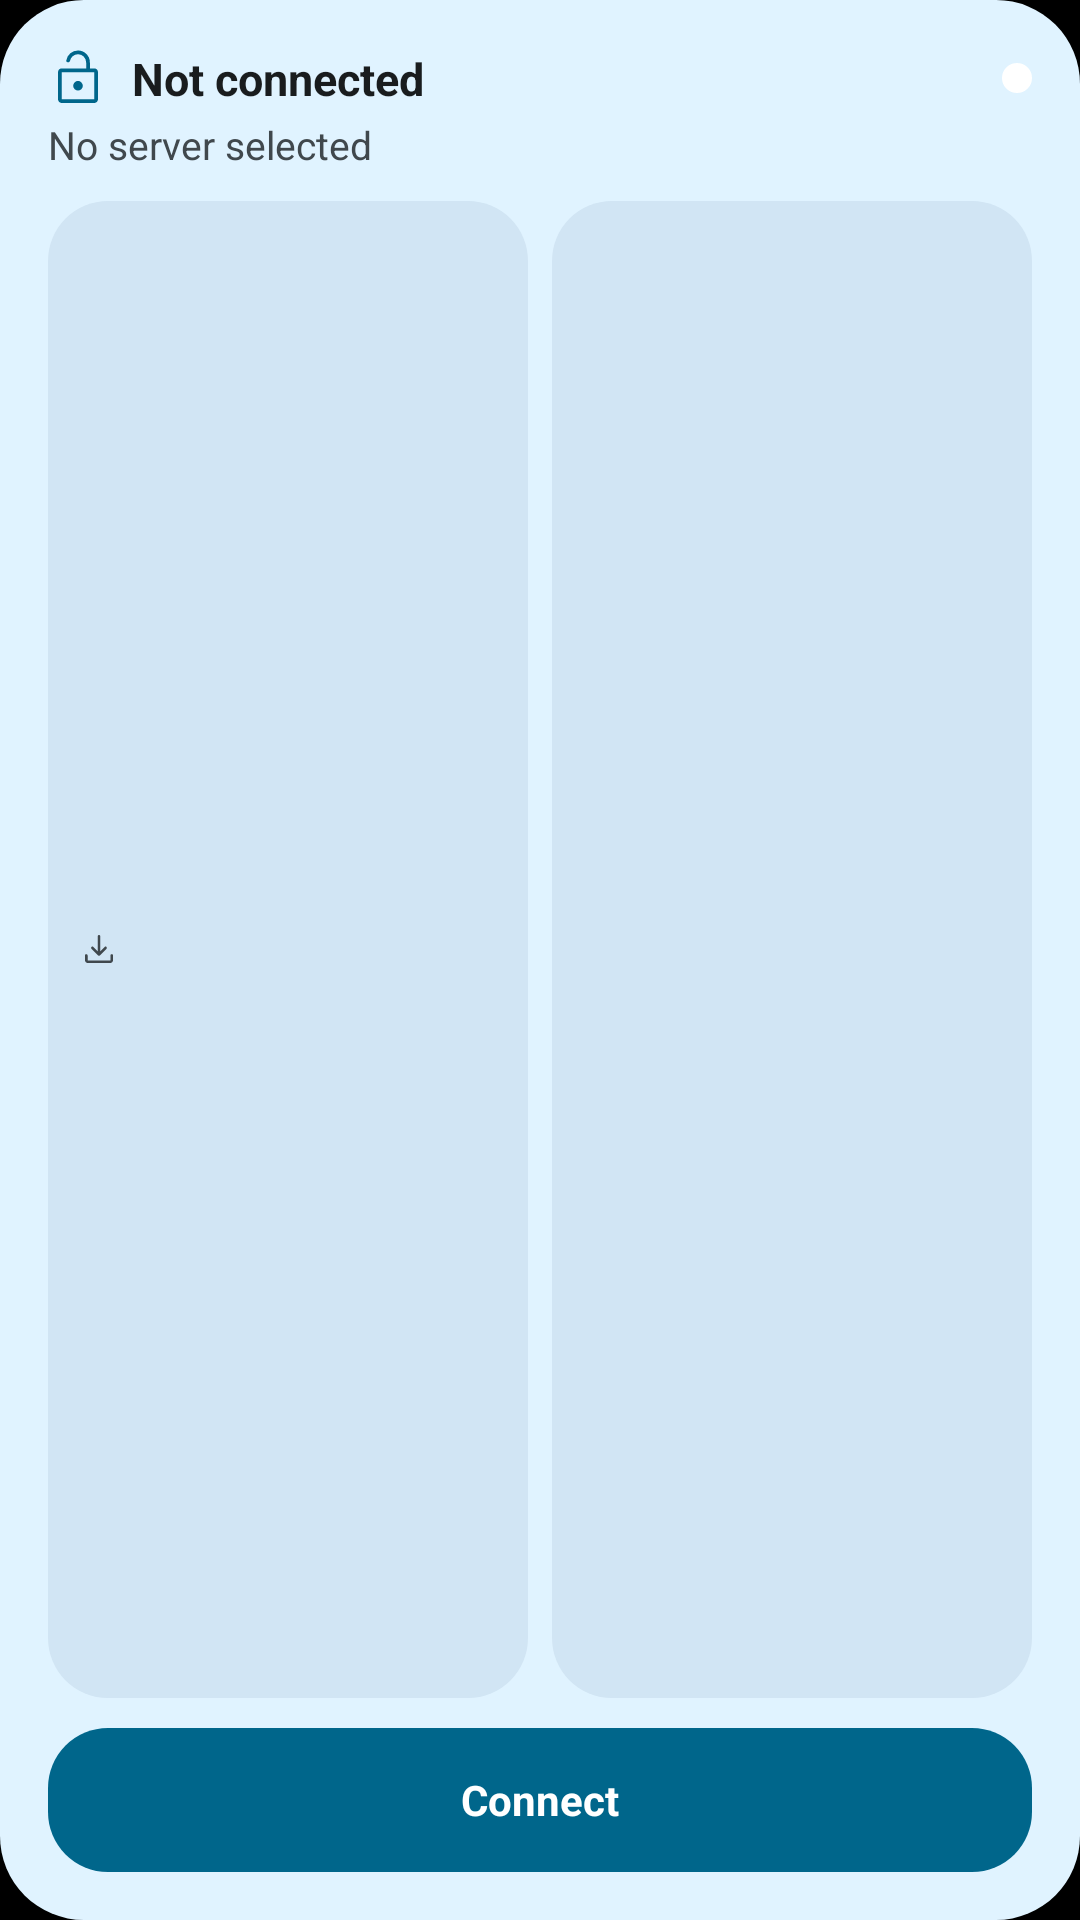

Where to tap for icons on this 1080*1920 app screen, as (x,y):
download: (99,949)
lock open: (78,76)
